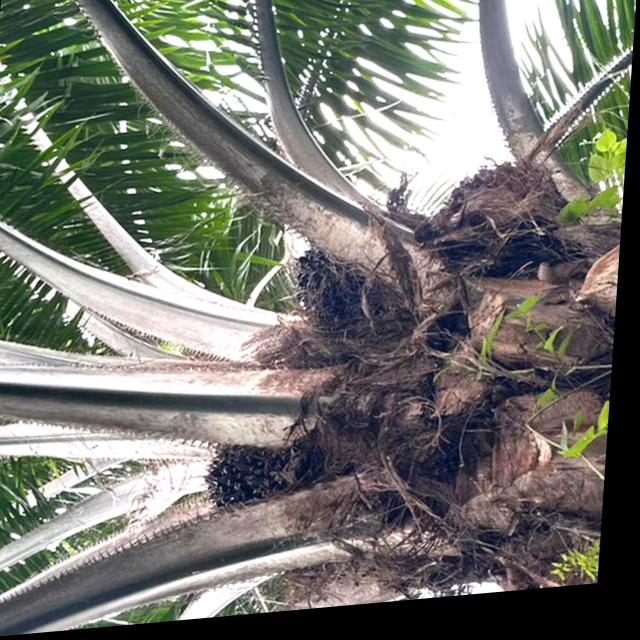unripe: (287, 240, 408, 370), (202, 429, 317, 534)
